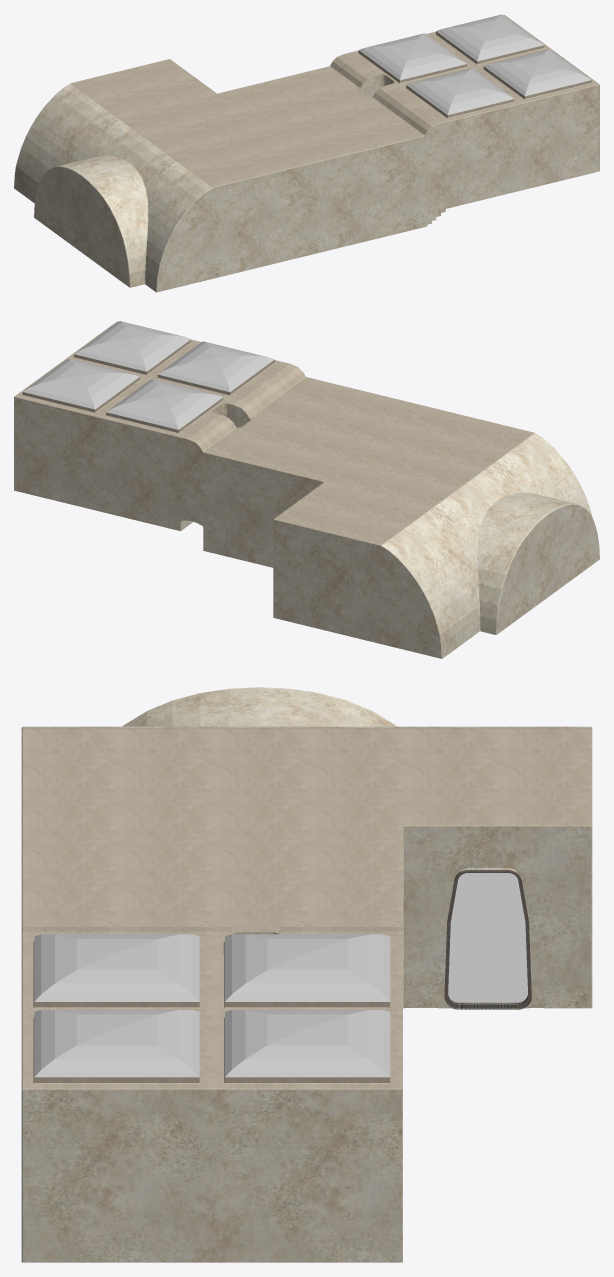
The model's file is thm_tato_house_m_s01_fp1_r7_bedroom2_mesh_r7.fbx.
3 renders of one model, top to bottom at view 1: azimuth 30°, elevation 25°; view 2: azimuth 150°, elevation 25°; view 3: azimuth 270°, elevation 25°, orthographic. The views are drawn at different scales.
Parts seen in each view (by area): view 1: mesh_node; view 2: mesh_node; view 3: mesh_node.
Part boxes in pixels (<box>): mesh_node: <box>14,14,599,292</box>; mesh_node: <box>14,321,599,658</box>; mesh_node: <box>21,687,592,1262</box>.
Size of the model in its own units: 22.08 by 5.13 by 11.89.
